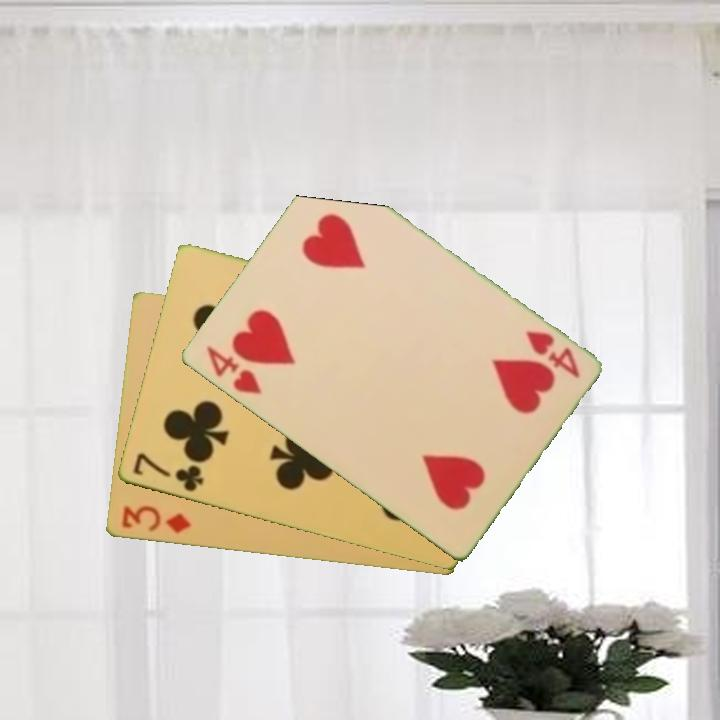3d: (118, 502, 193, 537)
4h: (202, 342, 265, 398), (521, 327, 583, 381)
7c: (129, 449, 206, 495)
